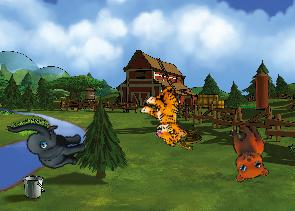bear: (215, 118, 276, 187)
elephant: (7, 106, 89, 179)
tiger: (133, 80, 202, 150)
